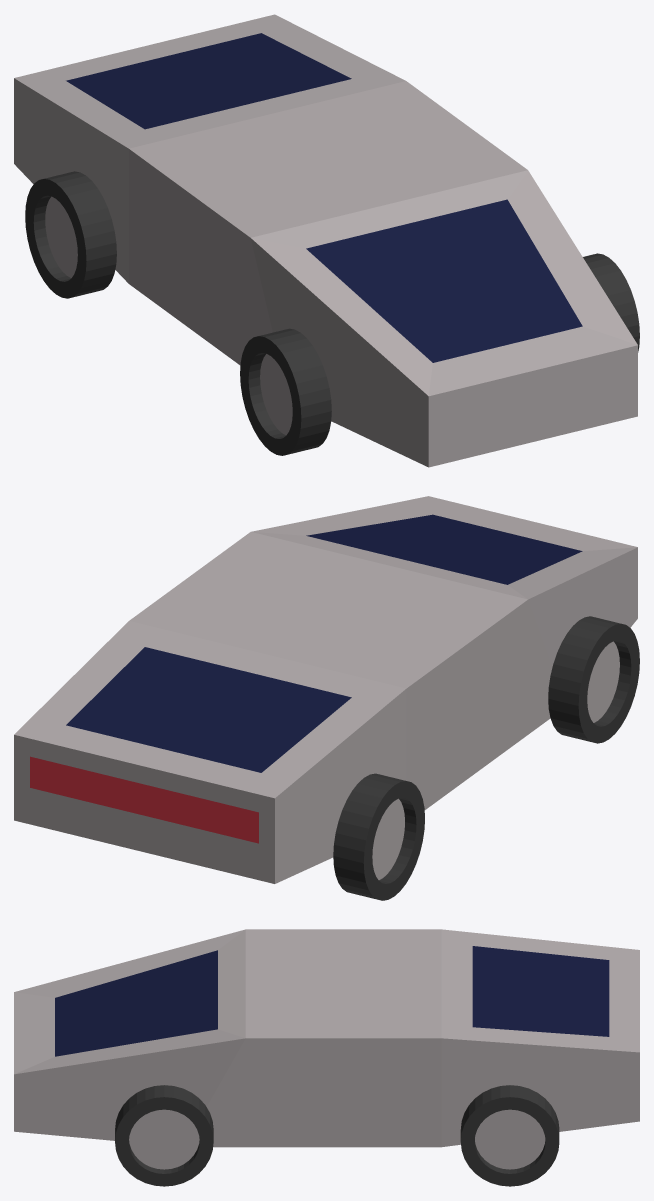
Rendered from proto_racer.fbx.
3 renders of one model, top to bottom at view 1: azimuth 30°, elevation 25°; view 2: azimuth 150°, elevation 25°; view 3: azimuth 270°, elevation 25°, orthographic. The views are drawn at different scales.
Visible parts, largest first — view 1: Car Body, Wheel RB, Wheen RL, Wheel FL; view 2: Car Body, Wheen RL, Wheel RB; view 3: Car Body, Wheel FB, Wheel FL.
Part boxes in pixels (x1=…): Car Body: x1=14, y1=14, x2=637, y2=467; Wheel RB: x1=25, y1=171, x2=116, y2=298; Wheen RL: x1=240, y1=328, x2=331, y2=455; Wheel FL: x1=583, y1=253, x2=639, y2=352; Car Body: x1=14, y1=496, x2=637, y2=883; Wheen RL: x1=548, y1=616, x2=639, y2=743; Wheel RB: x1=333, y1=773, x2=424, y2=900; Car Body: x1=14, y1=929, x2=639, y2=1147; Wheel FB: x1=460, y1=1085, x2=559, y2=1186; Wheel FL: x1=115, y1=1085, x2=213, y2=1186.
Size of the model in its own units: 71.03 by 33.93 by 141.
